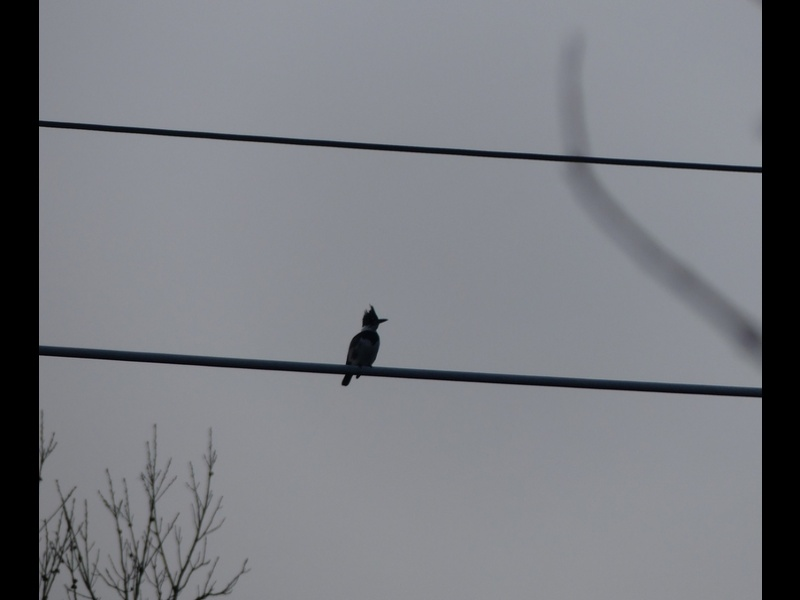kingfisher: (339, 304, 388, 389)
